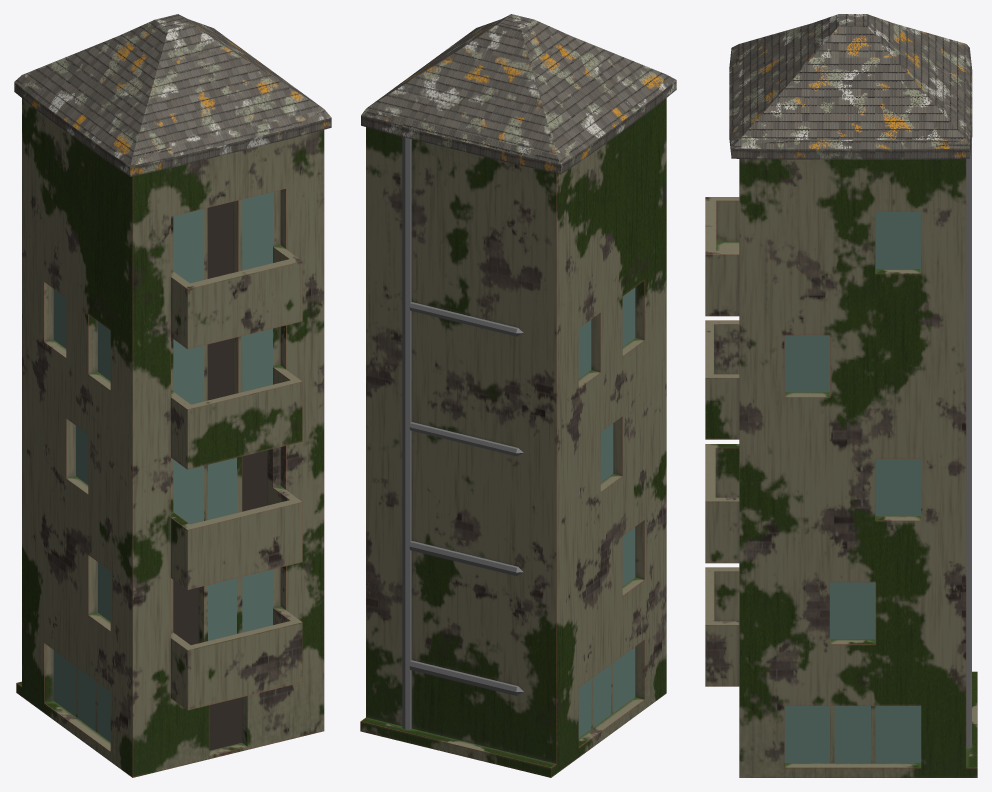
File: TallBuilding.fbx
3 renders of one model, left to right at view 1: azimuth 30°, elevation 25°; view 2: azimuth 150°, elevation 25°; view 3: azimuth 270°, elevation 25°, orthographic. The views are drawn at different scales.
Parts seen in each view (by area): view 1: Building; view 2: Building; view 3: Building.
Boxes of the visible parts, box(x1,y1,x2,y2) form: Building: box(14, 14, 331, 777); Building: box(360, 14, 676, 777); Building: box(705, 14, 977, 777).
Size of the model in its own units: 997 by 3214 by 1118.
5 materials, 2 textured.
